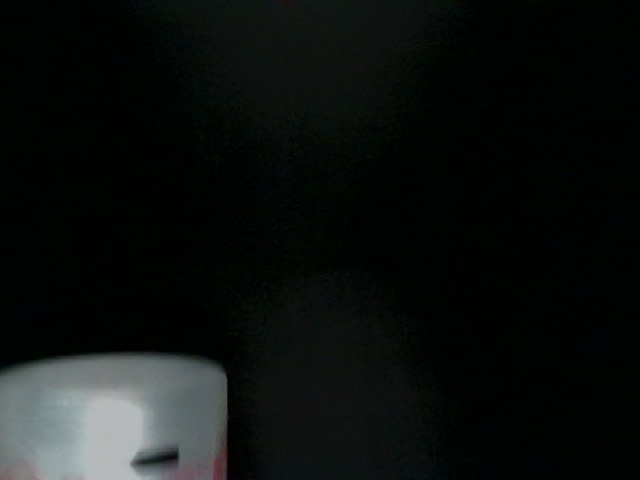CYLJ: (392, 240, 498, 350)
